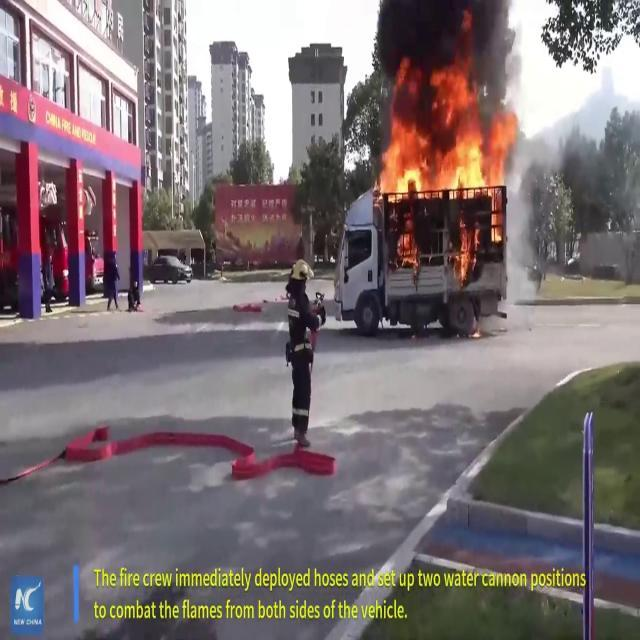Fire: (372, 72, 514, 268)
Smoke: (368, 0, 530, 116)
